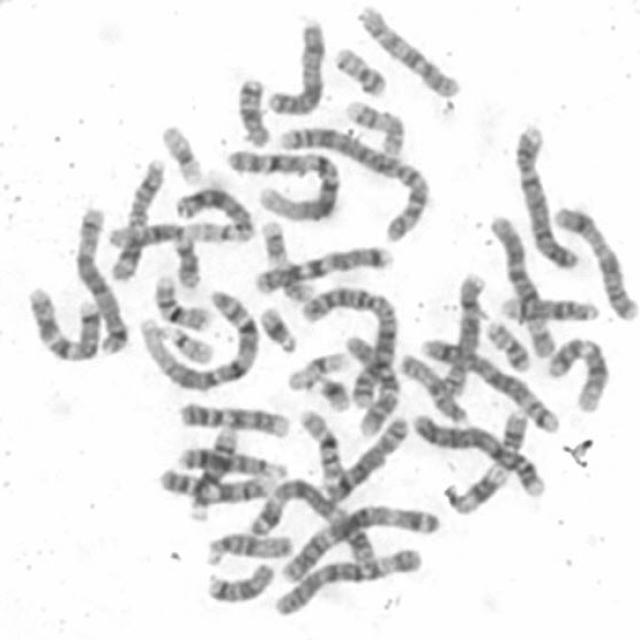A1: (135, 282, 262, 394), (221, 142, 343, 221)
A2: (275, 120, 434, 245), (297, 276, 403, 440)
A3: (278, 498, 442, 585), (244, 471, 381, 570)
B4: (406, 407, 548, 499), (509, 117, 584, 271)
B5: (416, 330, 562, 435), (70, 200, 132, 358)
C10: (350, 0, 463, 100), (338, 326, 404, 437)
C11: (437, 403, 532, 516), (105, 154, 170, 282)
C12: (103, 217, 202, 291), (543, 329, 612, 414)
C6: (268, 541, 426, 619), (483, 210, 559, 361)
C7: (250, 239, 395, 297), (22, 279, 105, 365)
C8: (316, 409, 412, 503), (438, 266, 490, 399)
C9: (152, 462, 278, 505), (172, 396, 294, 440)
D13: (171, 179, 258, 243), (174, 440, 289, 480)
D14: (182, 421, 242, 522), (497, 290, 602, 324)
D15: (395, 348, 473, 427), (198, 525, 294, 566)
E16: (293, 402, 348, 483), (149, 268, 214, 332)
E17: (255, 213, 318, 304), (341, 93, 410, 158)
E18: (201, 556, 276, 604), (232, 71, 274, 149)
F19: (154, 118, 206, 186), (283, 343, 352, 392)
F20: (328, 40, 389, 98), (479, 313, 535, 374)
G21: (256, 299, 300, 354), (308, 367, 354, 412)
G22: (151, 319, 216, 366), (179, 214, 250, 244)
X: (550, 198, 639, 322), (261, 13, 328, 117)
